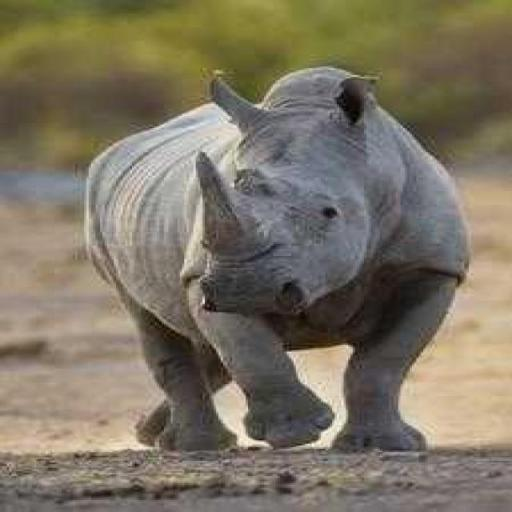Rhino: (82, 63, 471, 452)
